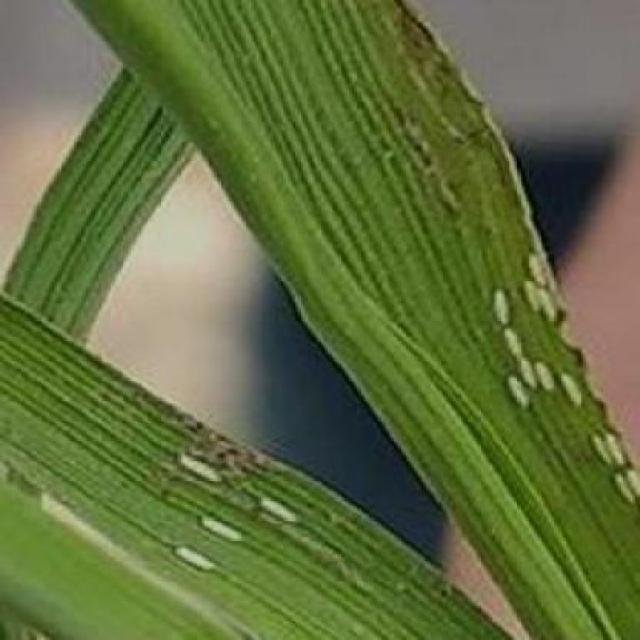whorl-maggot: (163, 440, 234, 491), (196, 509, 247, 557), (256, 491, 310, 535), (549, 358, 588, 409), (164, 545, 218, 580), (491, 371, 532, 414), (494, 320, 529, 365), (592, 428, 625, 470), (522, 247, 550, 296), (615, 463, 640, 508), (492, 286, 516, 325), (514, 282, 540, 312)
